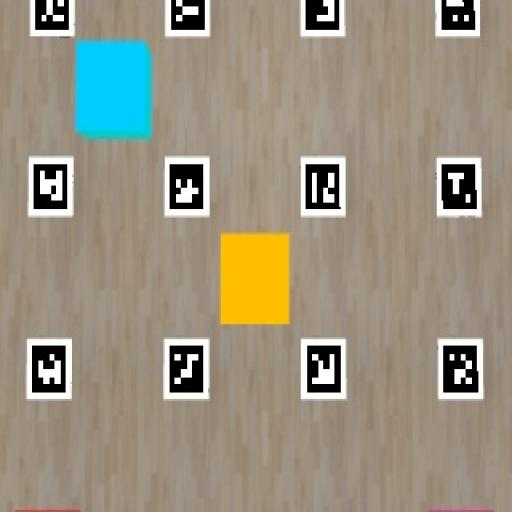car: (76, 39, 151, 138)
fire: (220, 233, 289, 324)
